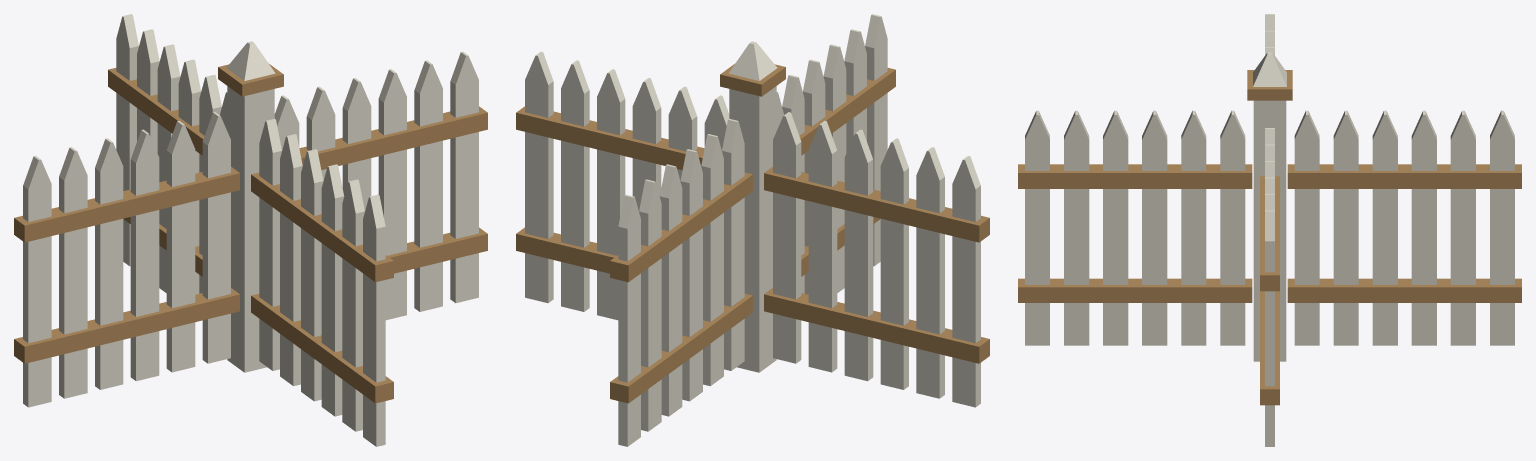
Rendered from picket_cross.glb.
3 views of the same model, side by side, from view 1: azimuth 30°, elevation 25°; view 2: azimuth 150°, elevation 25°; view 3: azimuth 270°, elevation 25° (orthographic). The views are drawn at different scales.
Visible parts, largest first — view 1: fence_picket_cross; view 2: fence_picket_cross; view 3: fence_picket_cross.
Boxes of the visible parts, x1=… form: fence_picket_cross: x1=14, y1=14, x2=487, y2=446; fence_picket_cross: x1=516, y1=14, x2=989, y2=446; fence_picket_cross: x1=1018, y1=14, x2=1521, y2=446.
Bounding box in the file's own units: 2 × 1.32 × 2.
